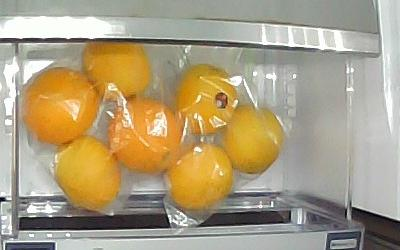orange_vinyl: (23, 67, 98, 144), (108, 99, 182, 177), (54, 137, 120, 210), (164, 143, 233, 211), (220, 106, 285, 174), (175, 65, 237, 136), (81, 43, 150, 100)
